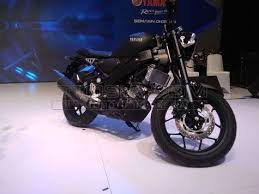motor: (53, 28, 237, 171)
